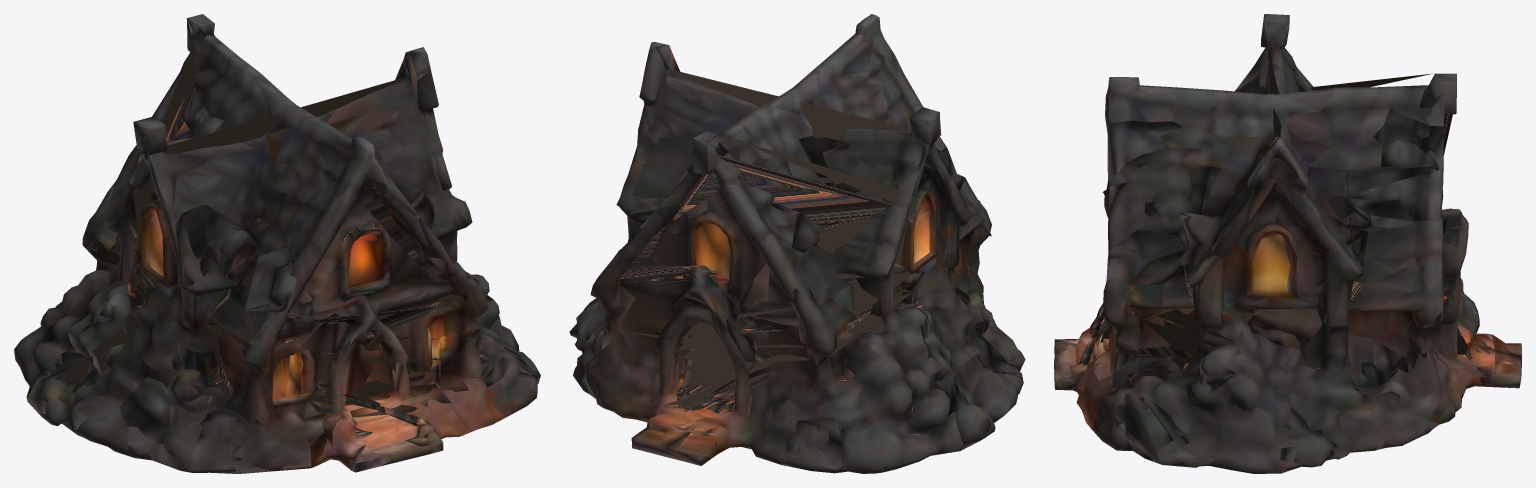
File: lava_house.glb
3 renders of one model, left to right at view 1: azimuth 30°, elevation 25°; view 2: azimuth 150°, elevation 25°; view 3: azimuth 270°, elevation 25°, orthographic.
Parts seen in each view (by area): view 1: Mesh_0; view 2: Mesh_0; view 3: Mesh_0.
Part boxes in pixels (box(x1,y1,x2,y2)): Mesh_0: box(14, 14, 540, 473); Mesh_0: box(569, 14, 1025, 473); Mesh_0: box(1054, 14, 1521, 473).
Bounding box in the file's own units: 2 × 1.31 × 1.87.
1 material, 1 textured.
